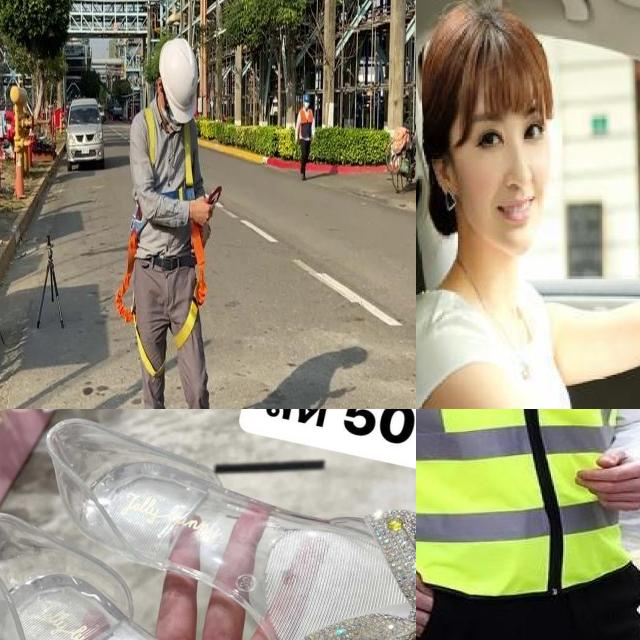Harness: (116, 229, 165, 378), (174, 222, 207, 350)
Sandals: (0, 409, 416, 640)
face_nomask: (459, 99, 556, 252)
hand_noglove: (570, 441, 640, 516), (416, 544, 441, 638)
head_nohelmet: (416, 0, 558, 113)
person: (416, 0, 640, 409), (416, 409, 640, 640)
vest: (416, 409, 640, 609)
